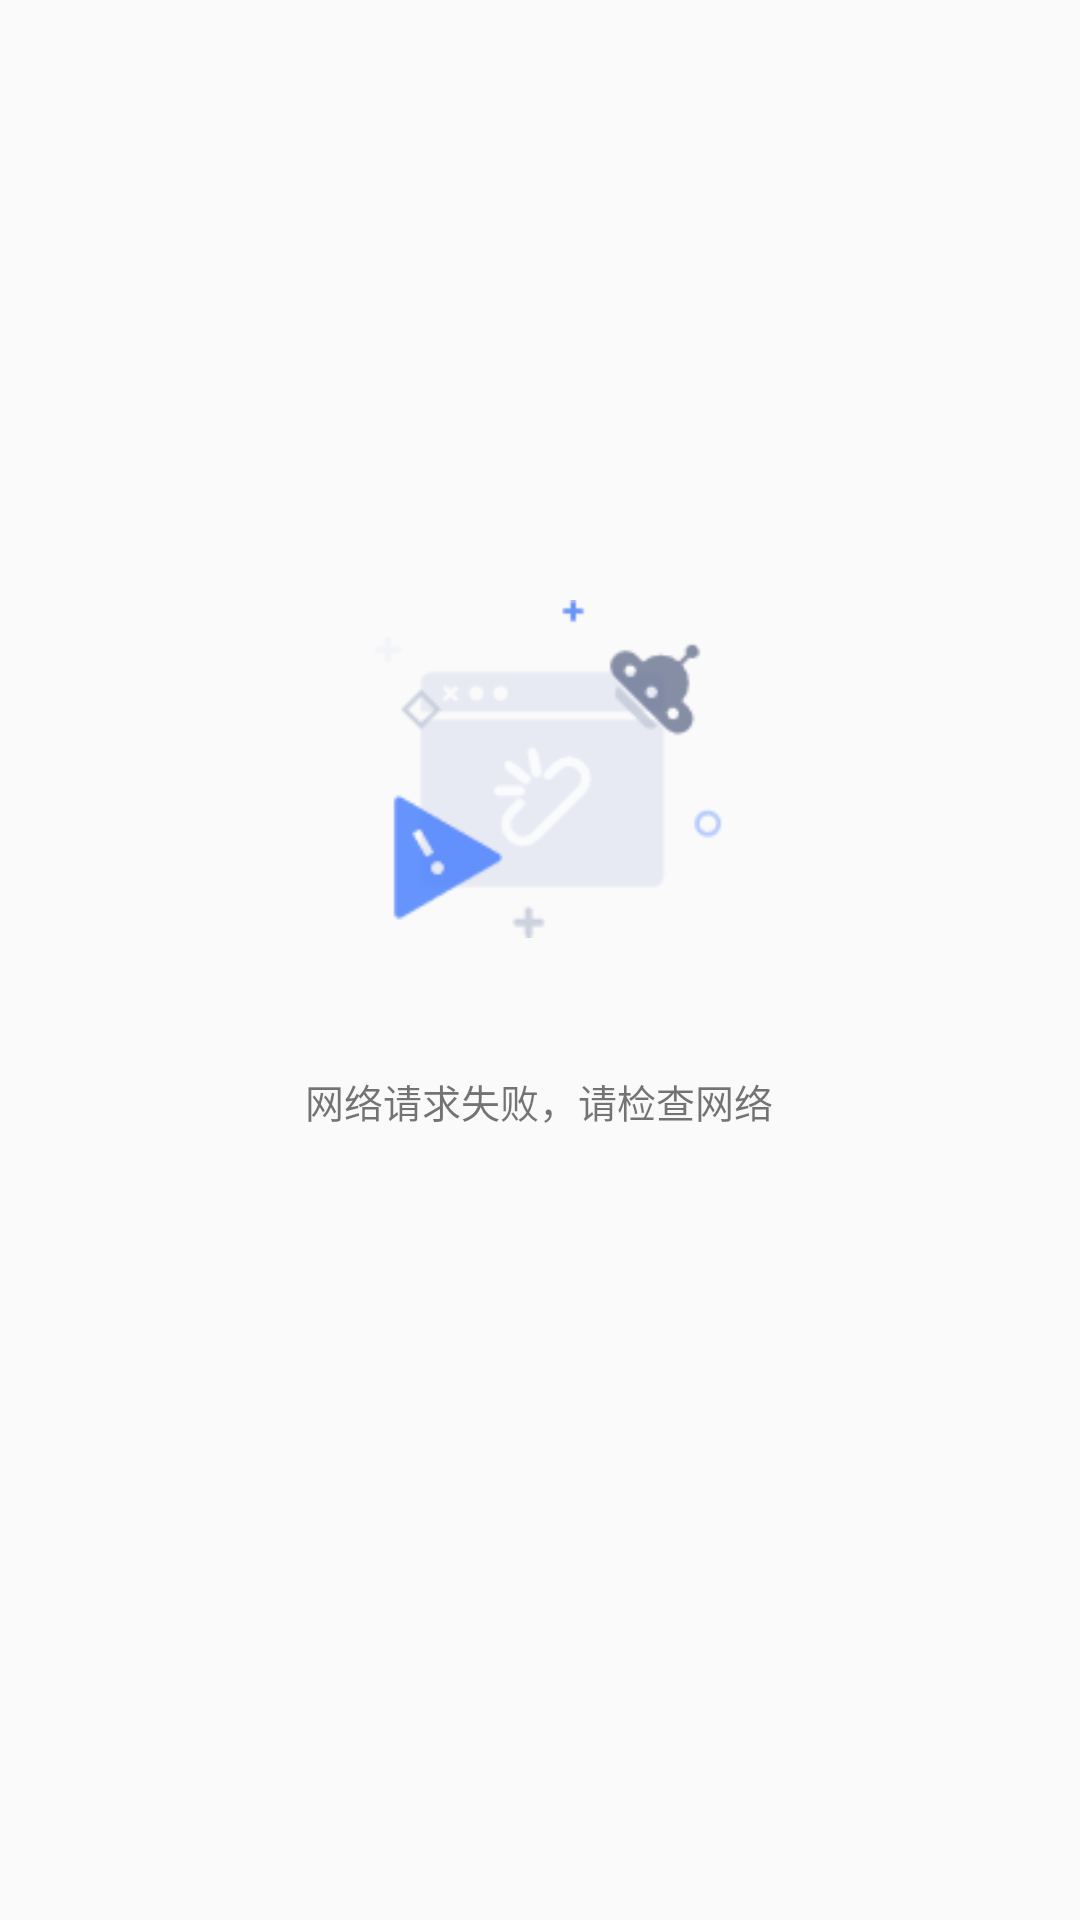

Named icons in this screenshot (1080×1920) and their bounding boxes, bbox=(x1, y1, x2, y2):
neterror: bbox=(393, 600, 721, 938)
